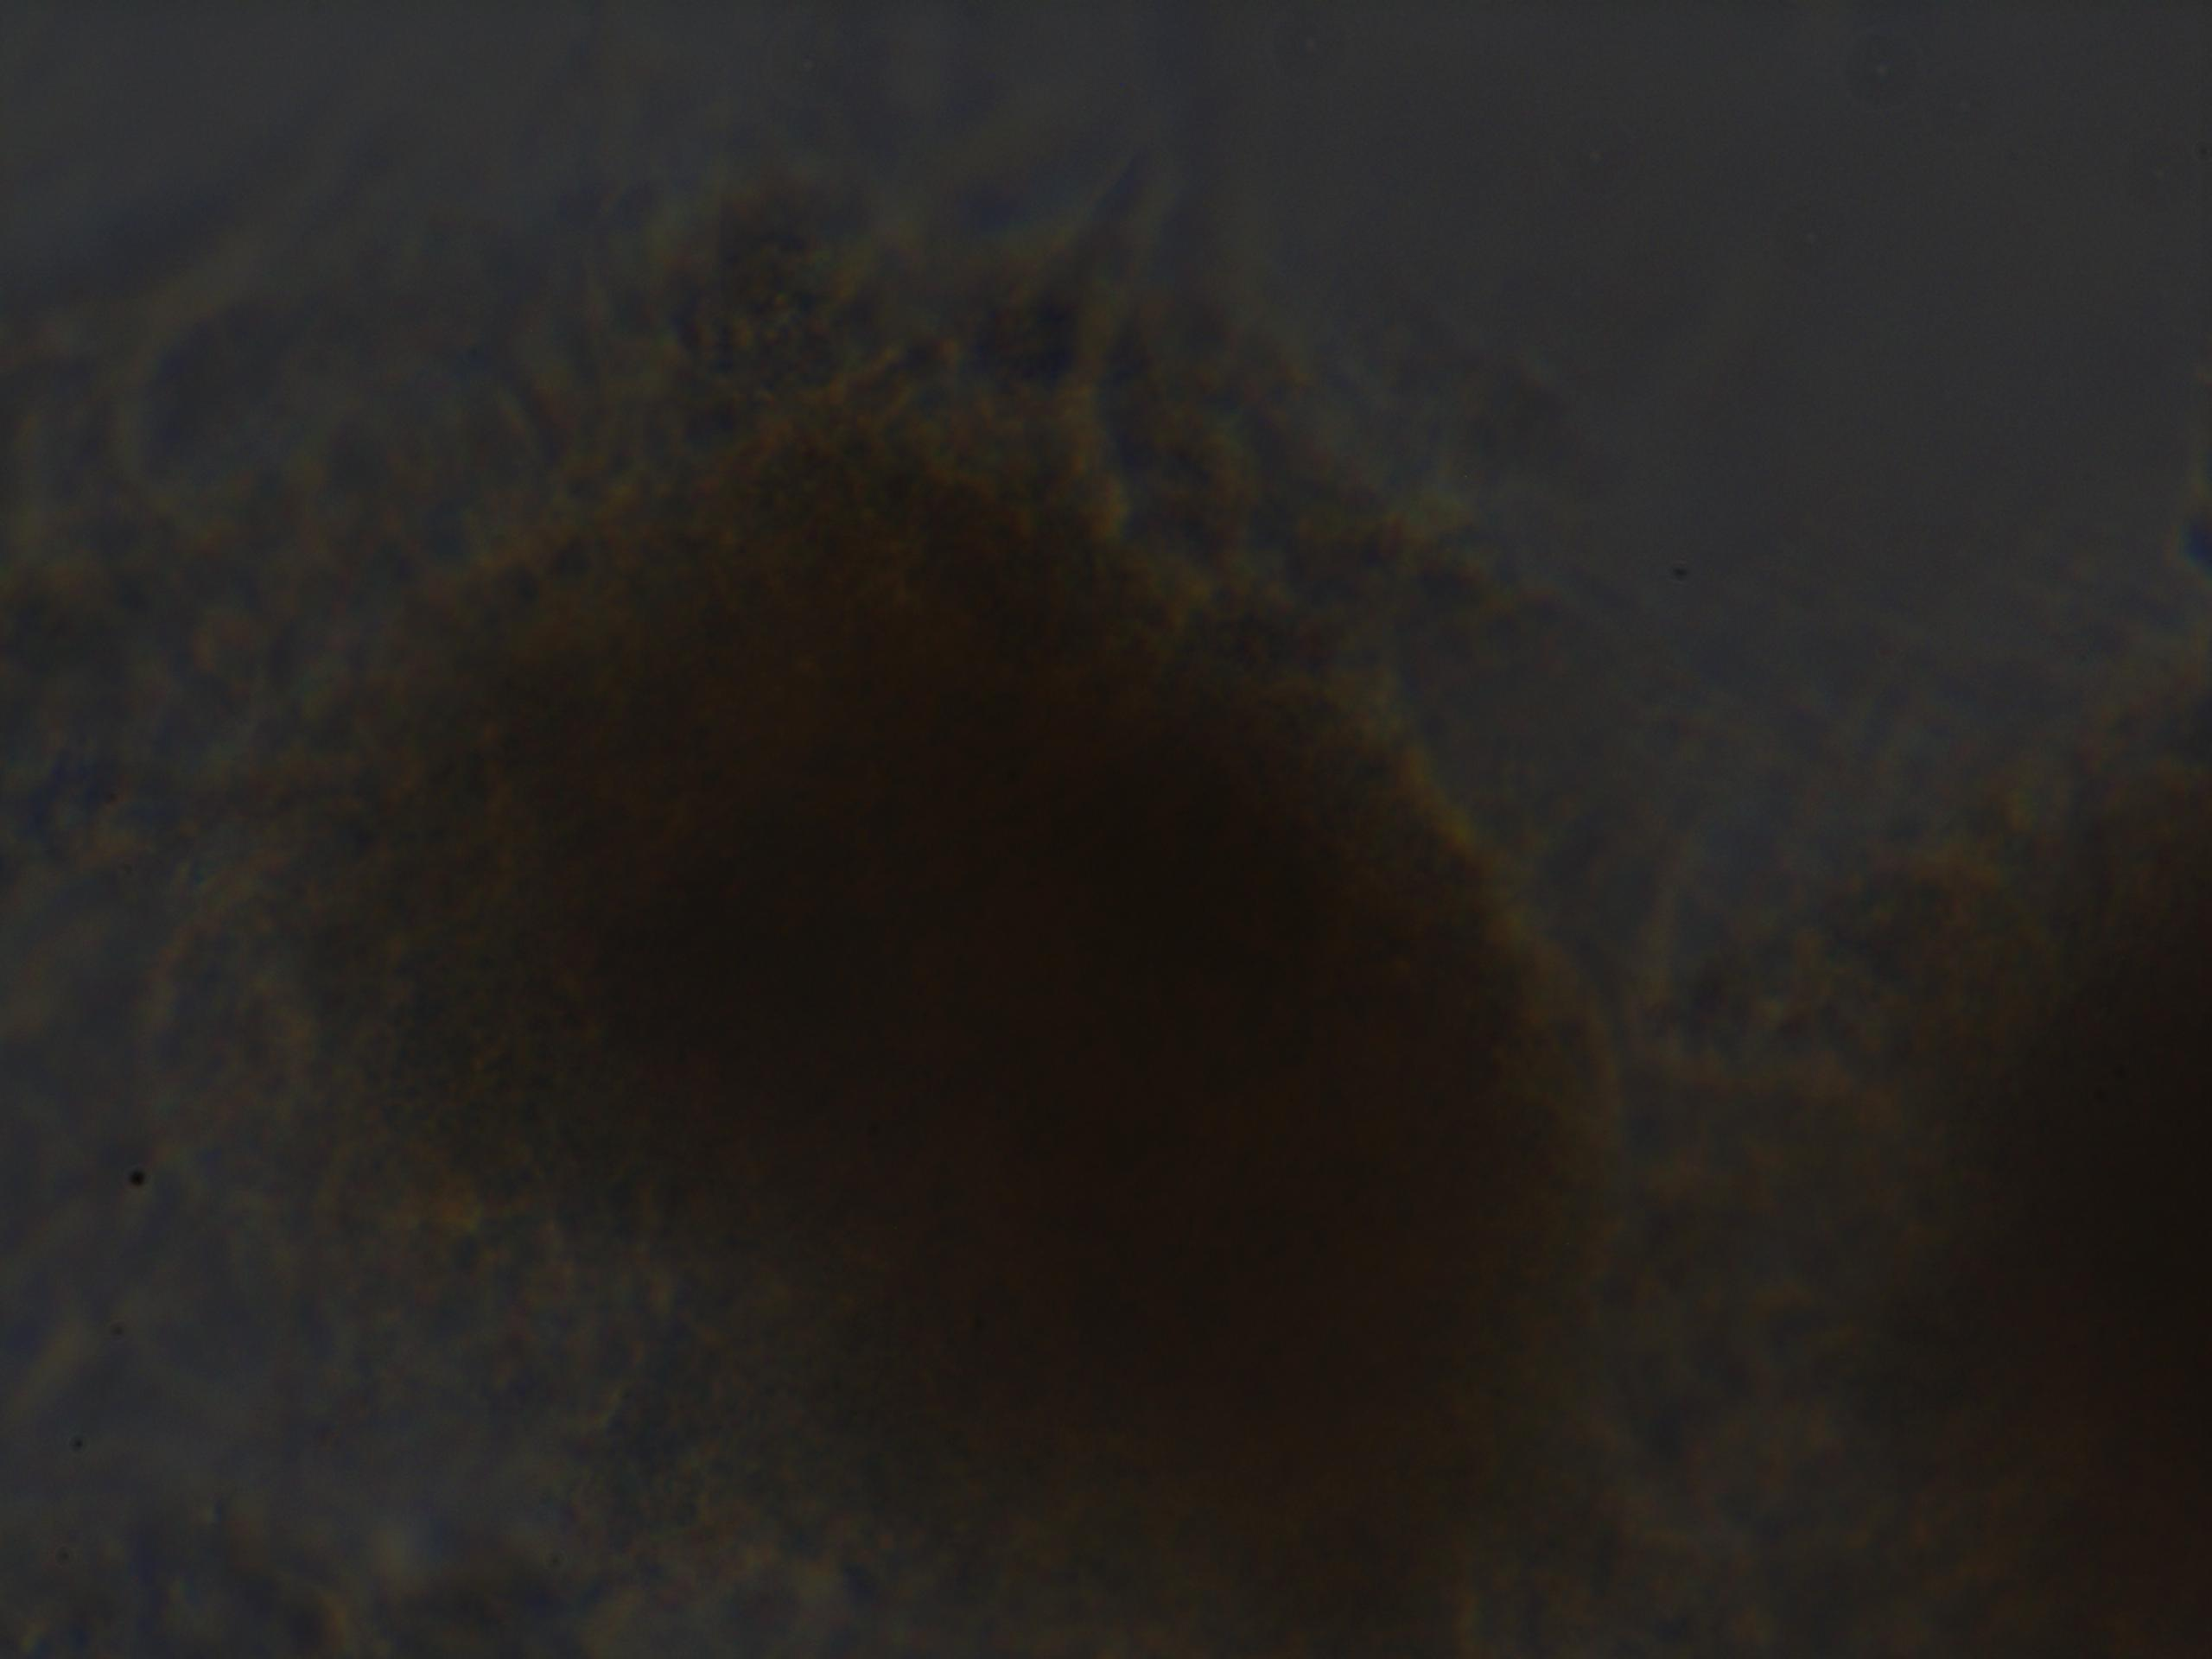spherical_floc: (228, 326, 1632, 1659)
